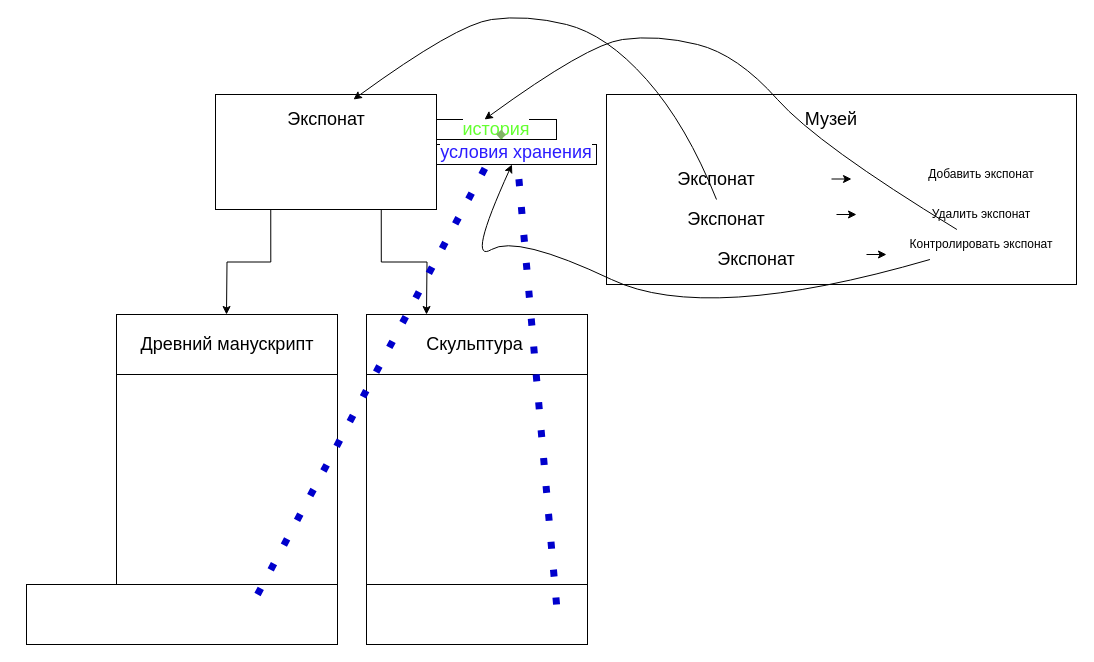
This 1094x662 diagram has some shape labels left out. The shapes that lost their labels are listed below. From the top down, each one's centre as x and y in pixels, then its label:
At point (182, 614): "контроль температуры и влажности".
At point (477, 614): "регулярная реставрация".
